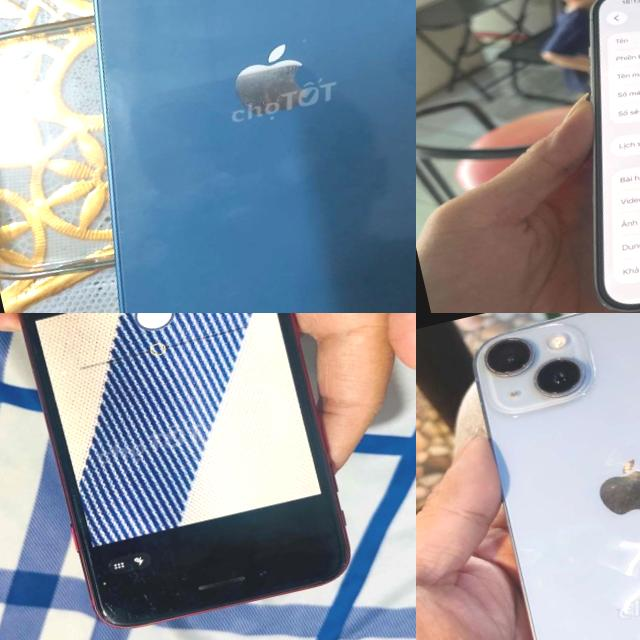gen_12_13: (12, 0, 416, 313)
gen_14: (454, 313, 640, 640), (531, 0, 640, 313)
gen_7_8: (0, 313, 367, 640)
